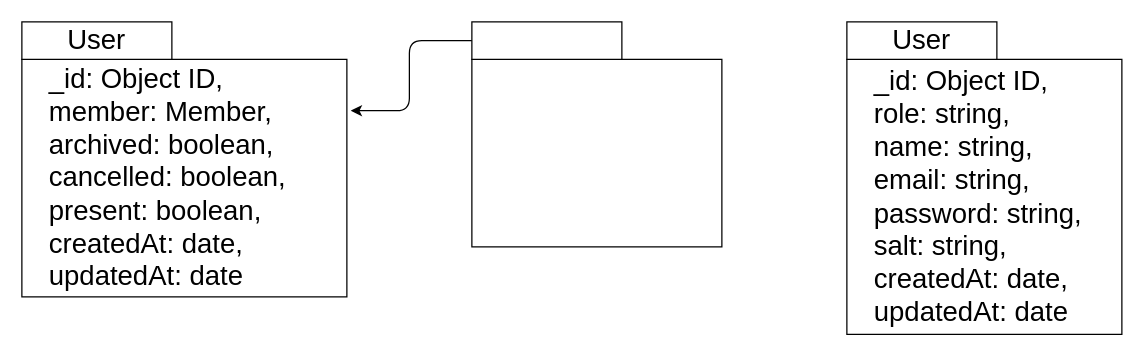
The diagram is 1144 pixels wide and 356 high, and some of its shapes have lost their labels. The centre of each missing label's shape, as x and y in pixels:
_id: Object ID, role: string, name: string, createdAt: date, updatedAt: date: point (596, 152)
Member: point (546, 40)
